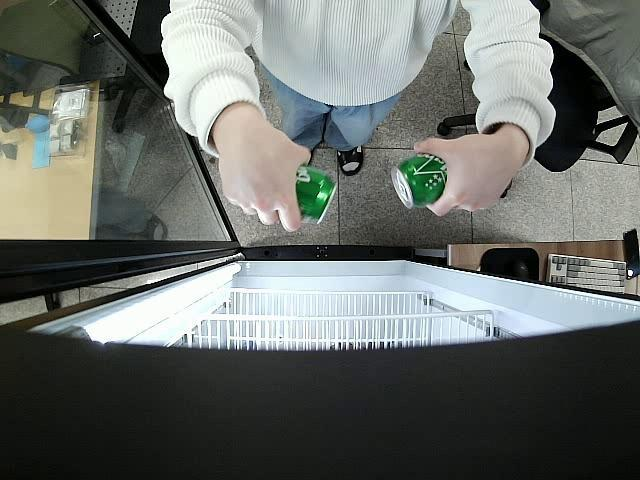12_chilsungCider: (390, 154, 447, 209), (292, 164, 338, 226)
